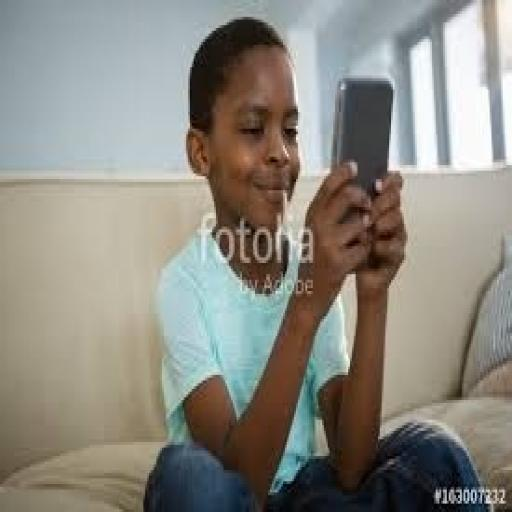texting: (142, 14, 492, 509)
